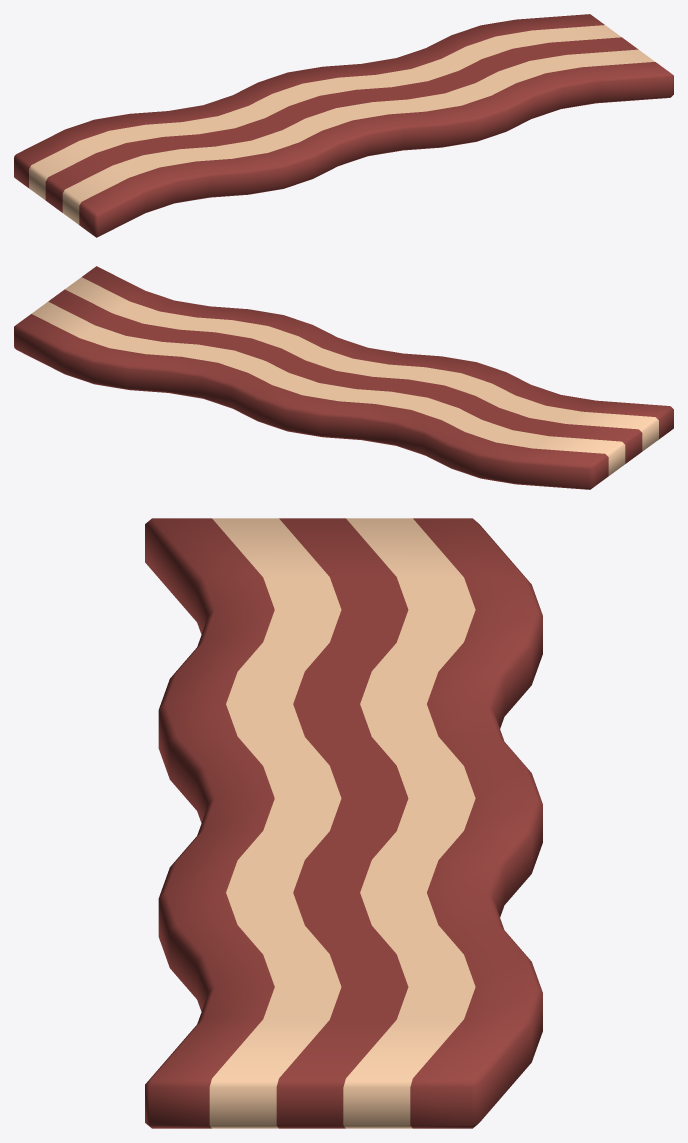
Rendered from Bacon_Hotdog.002.fbx.
3 views of the same model, one above another, from view 1: azimuth 30°, elevation 25°; view 2: azimuth 150°, elevation 25°; view 3: azimuth 270°, elevation 25° (orthographic). The views are drawn at different scales.
Visible parts, largest first — view 1: Bacon_Hotdog.002; view 2: Bacon_Hotdog.002; view 3: Bacon_Hotdog.002.
Boxes of the visible parts, x1,y1,x2,y2 form: Bacon_Hotdog.002: (14,14,673,237); Bacon_Hotdog.002: (14,266,673,489); Bacon_Hotdog.002: (145,518,542,1128).
Size of the model in its own units: 129 by 38.27 by 5.32.
